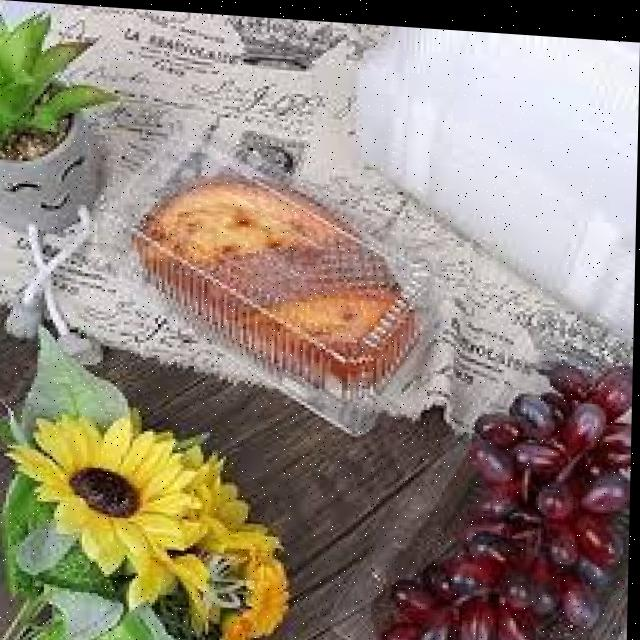disposable: (88, 108, 464, 469)
